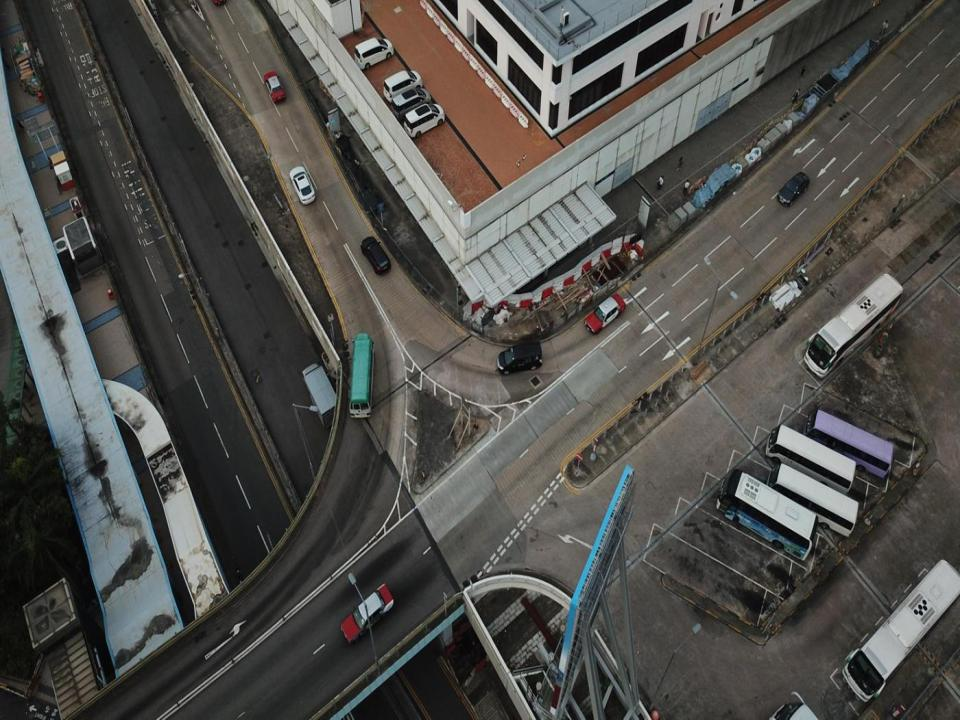bus: (842, 557, 960, 703), (804, 273, 902, 378), (716, 469, 818, 560), (763, 462, 859, 538), (765, 424, 856, 494), (804, 409, 894, 479), (349, 332, 374, 417)
car: (584, 292, 625, 334), (361, 236, 391, 273), (777, 172, 809, 206), (289, 165, 315, 205), (264, 72, 286, 102)
truck: (298, 362, 342, 428)
van: (496, 342, 542, 376), (403, 103, 444, 138), (354, 38, 393, 70), (384, 70, 422, 102), (391, 88, 430, 117)
